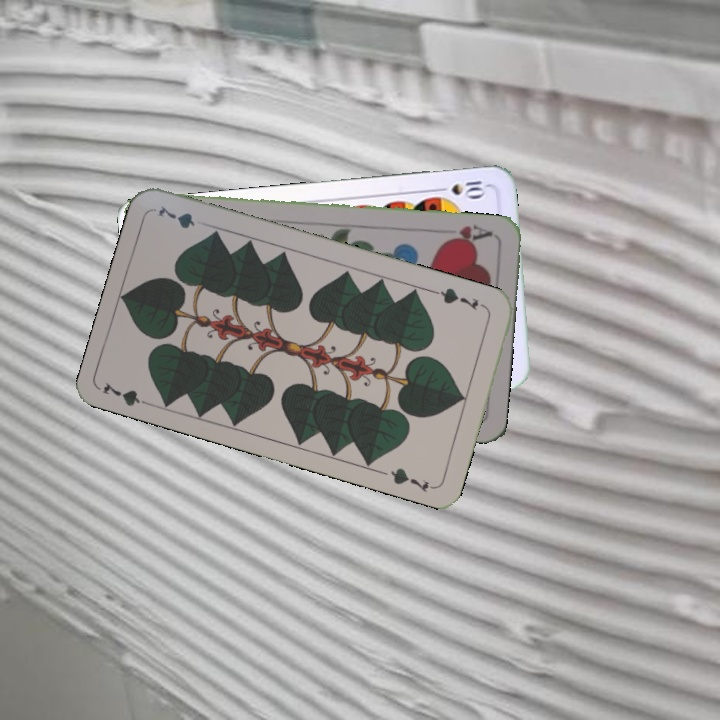G7: (99, 378, 157, 410), (431, 283, 489, 313)
HA: (440, 221, 495, 247)
S10: (431, 176, 490, 200)
